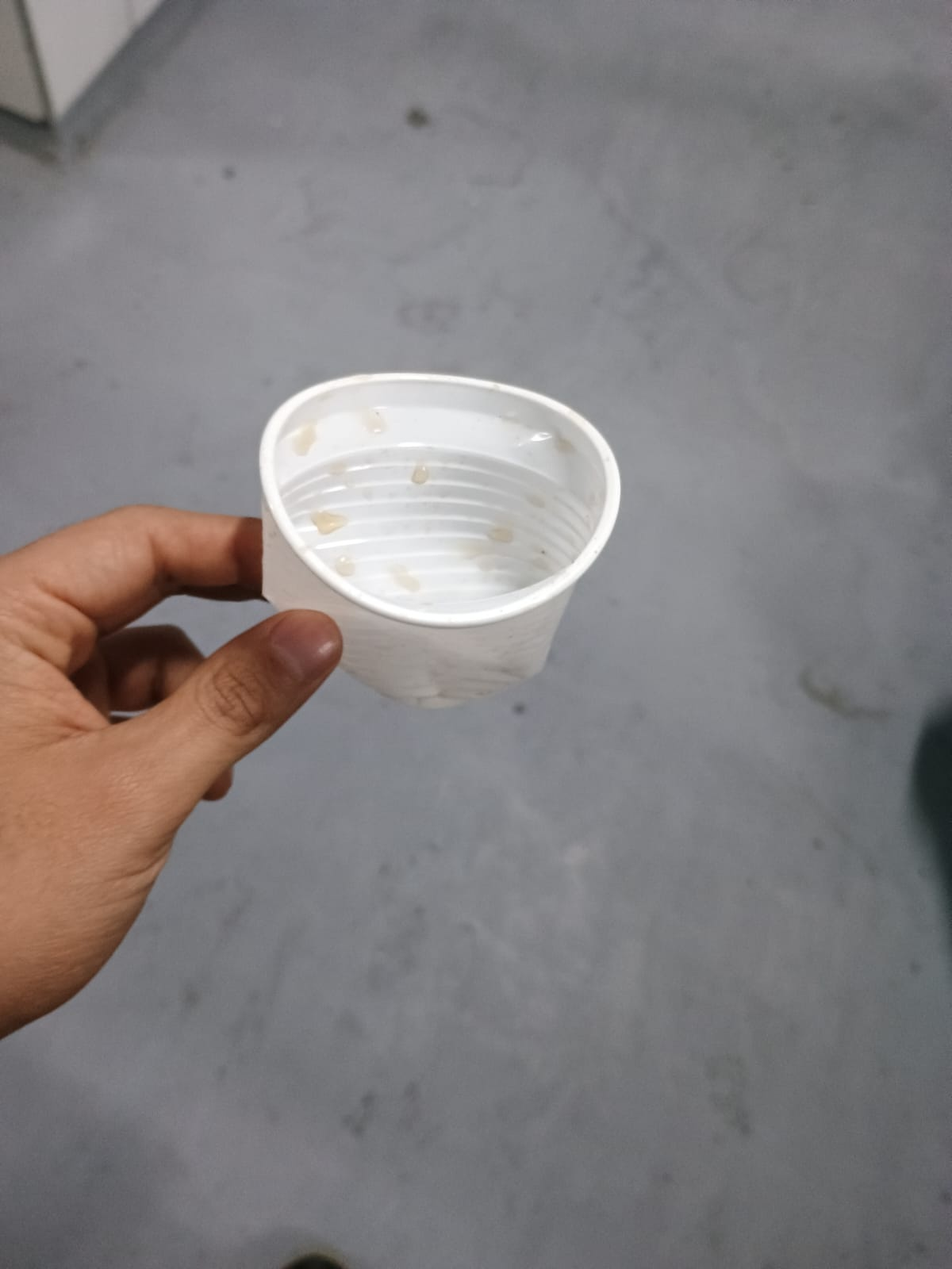Plastico: (258, 370, 618, 710)
